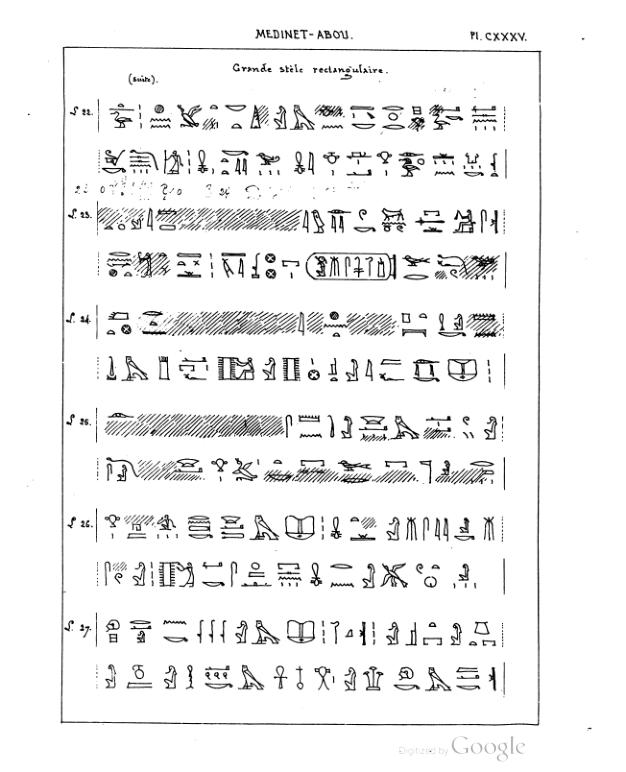circle: (305, 245, 400, 290)
